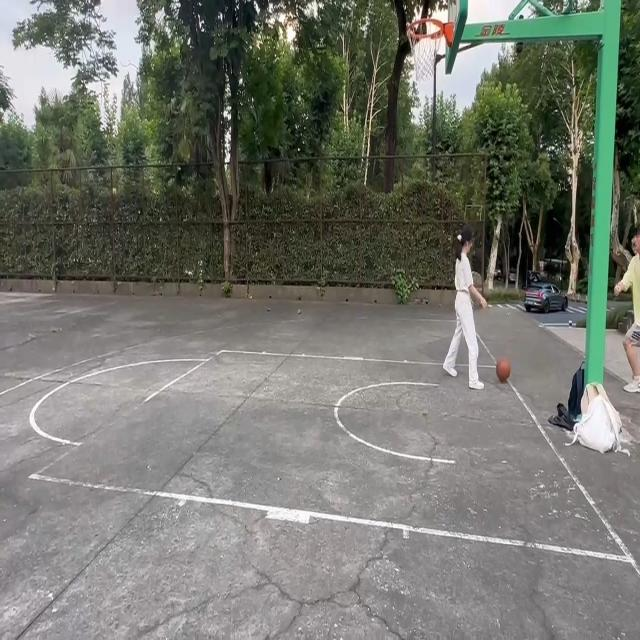basketball: (408, 17, 449, 85)
rim: (496, 355, 511, 381)
